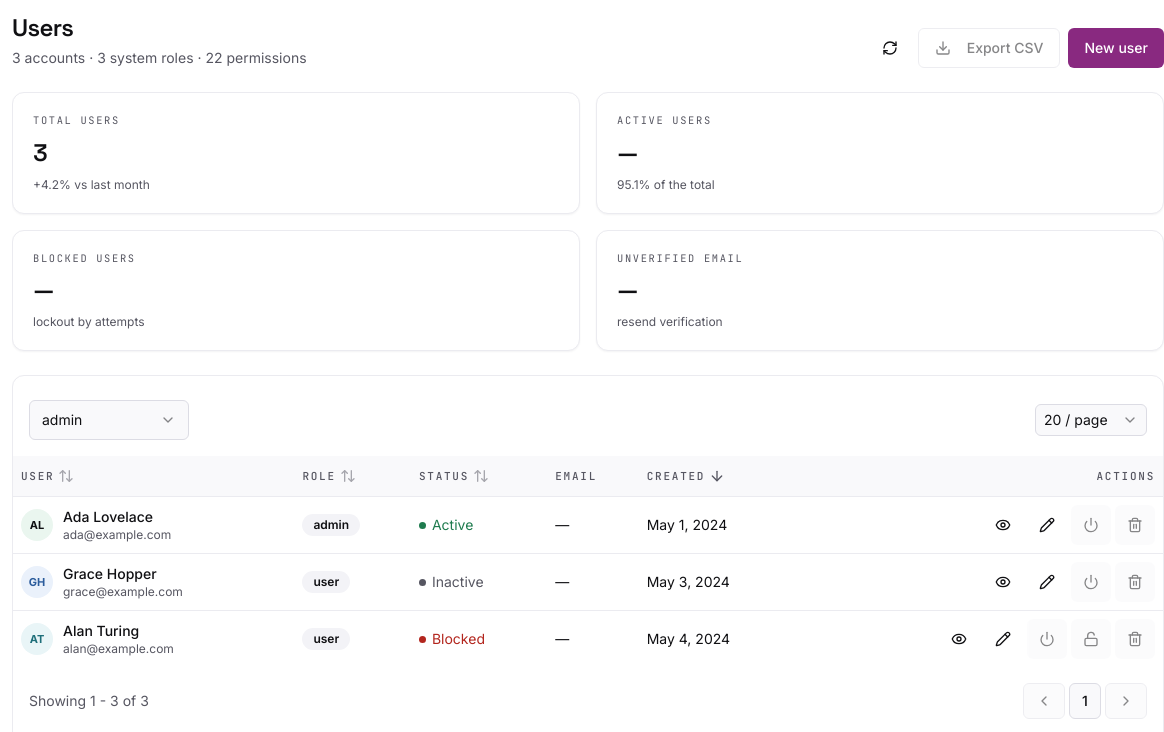
Test: users page — MSW › offers every API role in the selector and reflects the active one (S3)
Expected: the text "Ada Lovelace" is shown, [63,508,153,525]
Expected: the text "Grace Hopper" is shown, [63,565,157,582]
Click the dropdown named "Role": click(109, 420) [29,400,189,440]
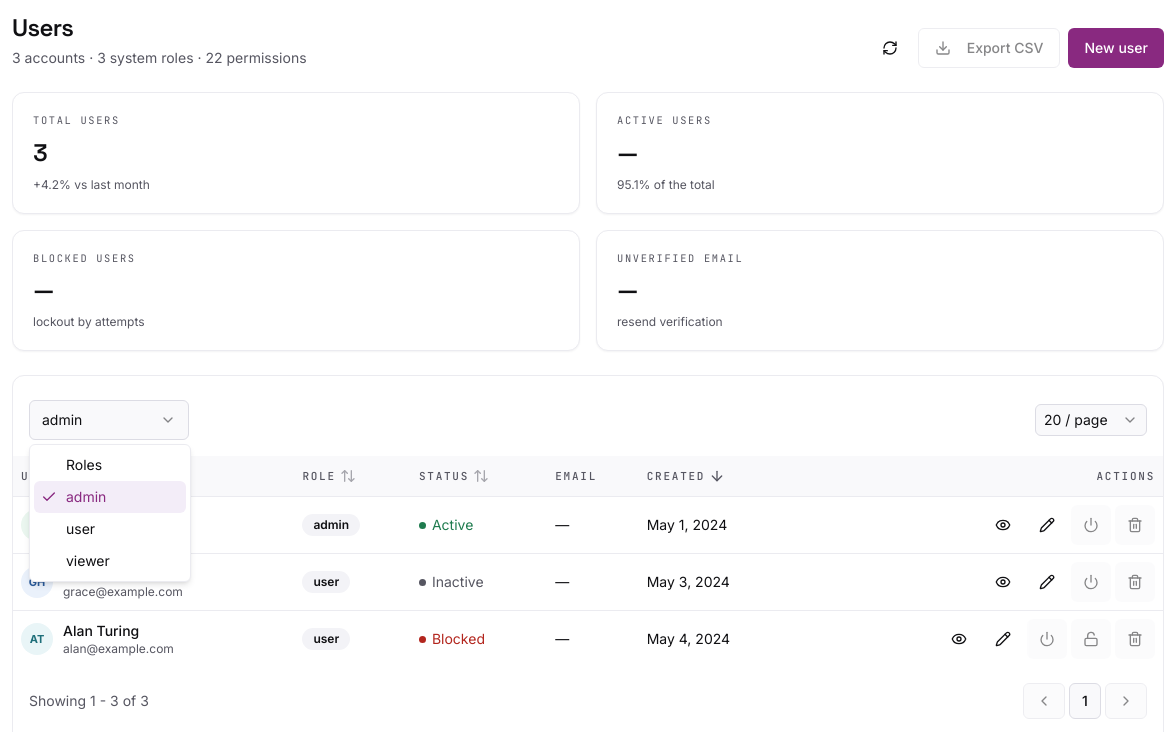
Expected: the option "user" is shown, [66,520,95,537]
Expected: the option "viewer" is shown, [66,552,110,569]
Expected: the option "Roles" is shown, [66,456,102,473]
